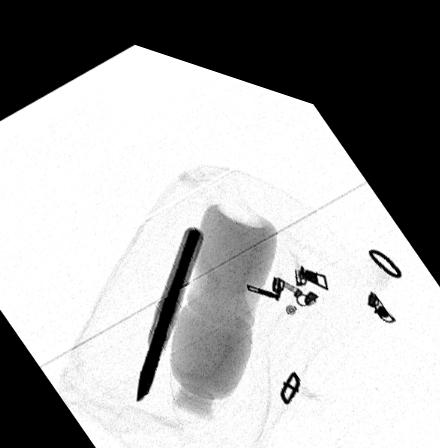Pliers: (137, 215, 203, 394)
